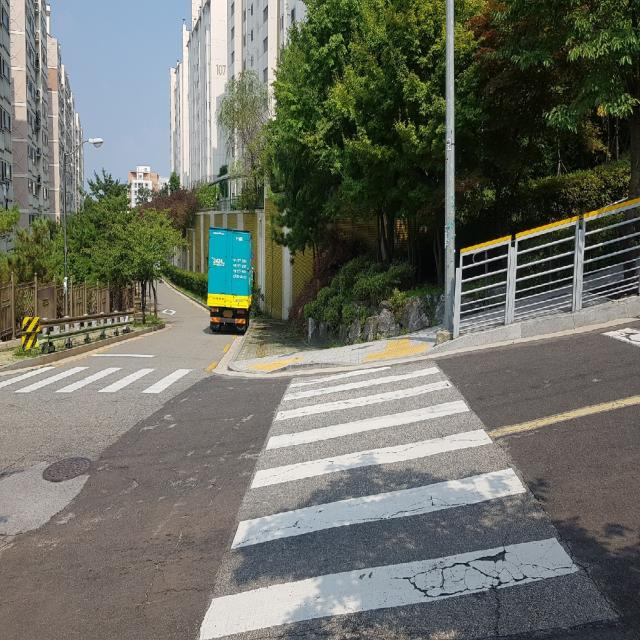횡단보도: (197, 362, 582, 638), (0, 350, 195, 407)
